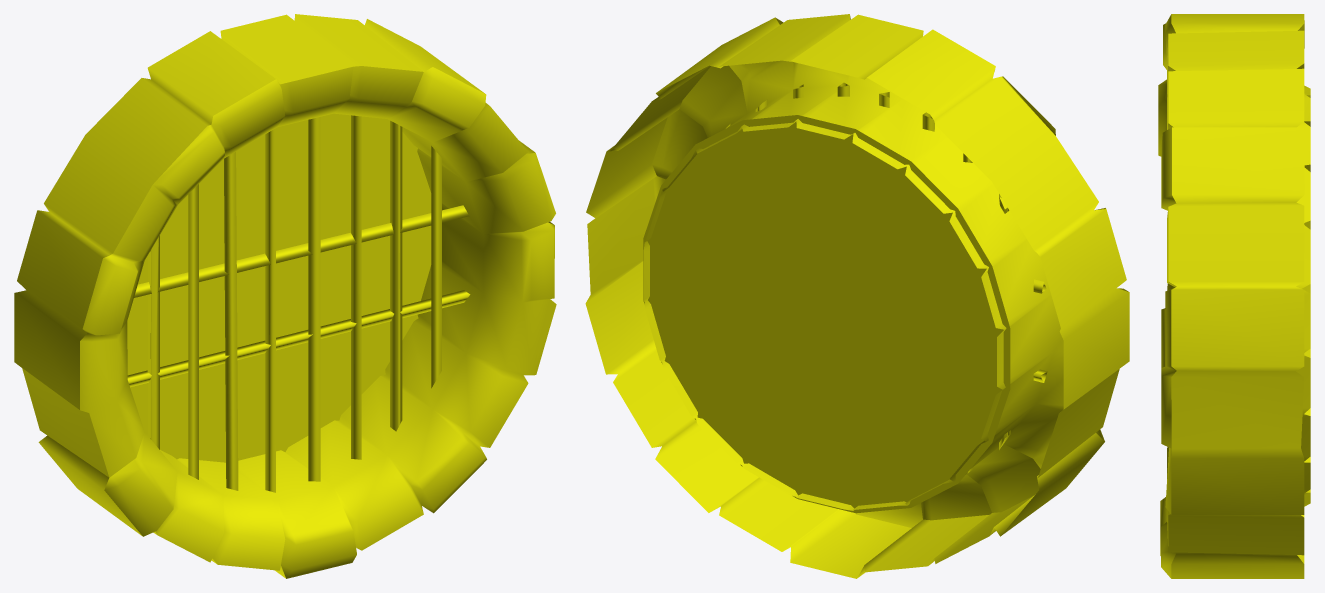
Rendered from MedievalSewerEntranceLOD1.fbx.
3 renders of one model, left to right at view 1: azimuth 30°, elevation 25°; view 2: azimuth 150°, elevation 25°; view 3: azimuth 270°, elevation 25°, orthographic.
Visible parts, largest first — view 1: MedievalSewerEntrance_LOD1, Blackwall_LOD1, Bars_LOD1; view 2: MedievalSewerEntrance_LOD1, Blackwall_LOD1, Bars_LOD1; view 3: MedievalSewerEntrance_LOD1.
Part boxes in pixels (bbox=[...]): MedievalSewerEntrance_LOD1: bbox=[14, 14, 556, 578]; Blackwall_LOD1: bbox=[127, 113, 431, 462]; Bars_LOD1: bbox=[127, 115, 470, 492]; MedievalSewerEntrance_LOD1: bbox=[585, 14, 1129, 578]; Blackwall_LOD1: bbox=[643, 115, 1010, 513]; Bars_LOD1: bbox=[726, 82, 1047, 475]; MedievalSewerEntrance_LOD1: bbox=[1158, 14, 1310, 578].
Bounding box in the file's own units: 311 × 313 × 84.89.
